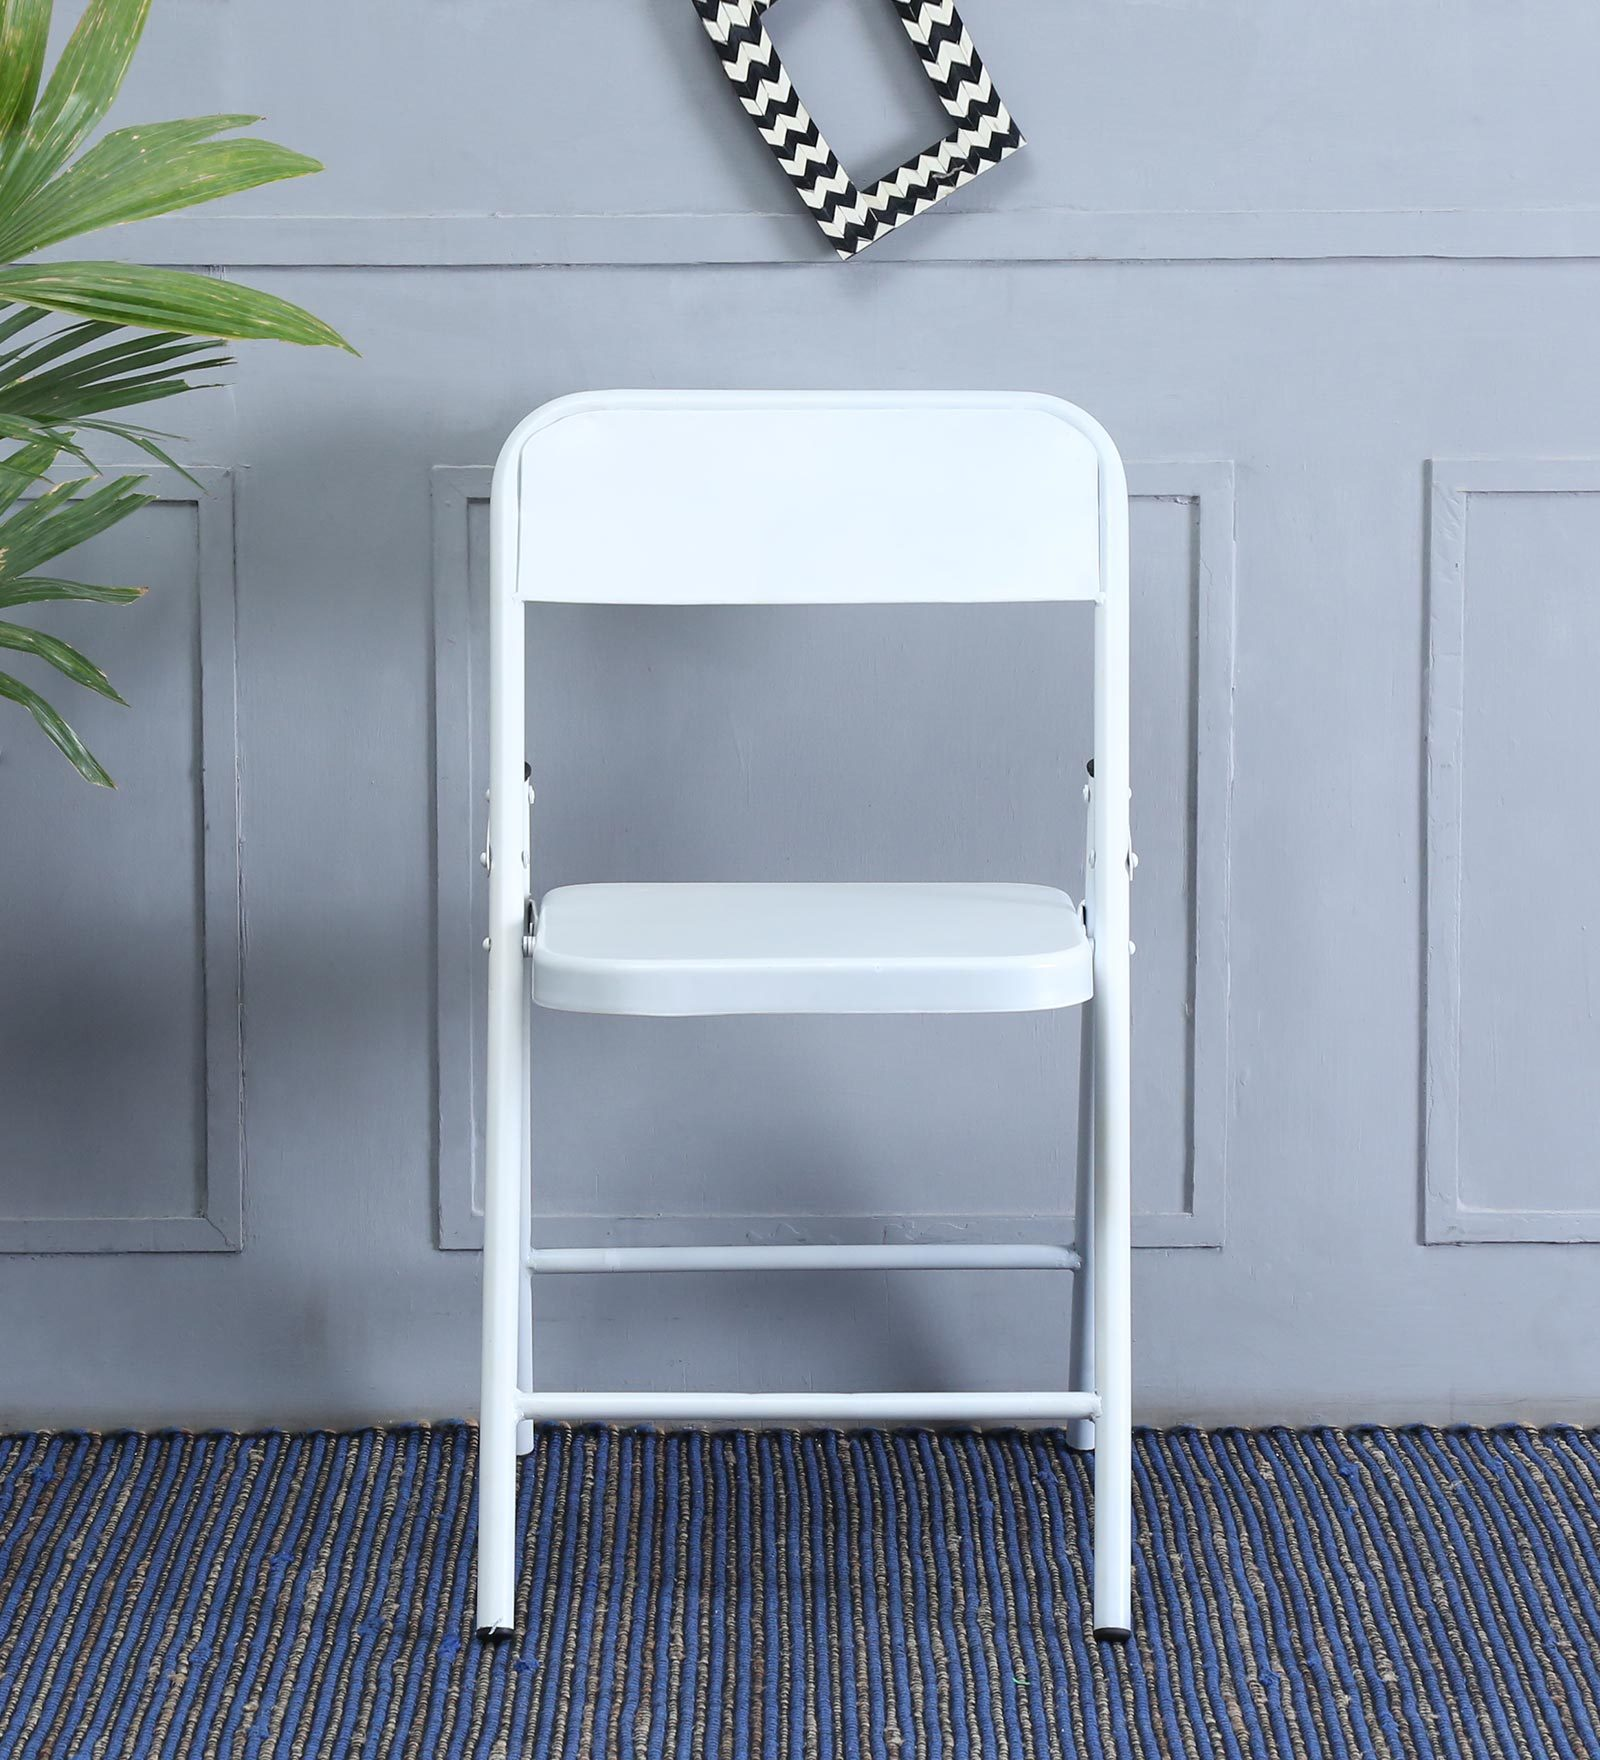Kell Folding Chair in White Color by Bohemiana: (451, 350, 1188, 1674)
